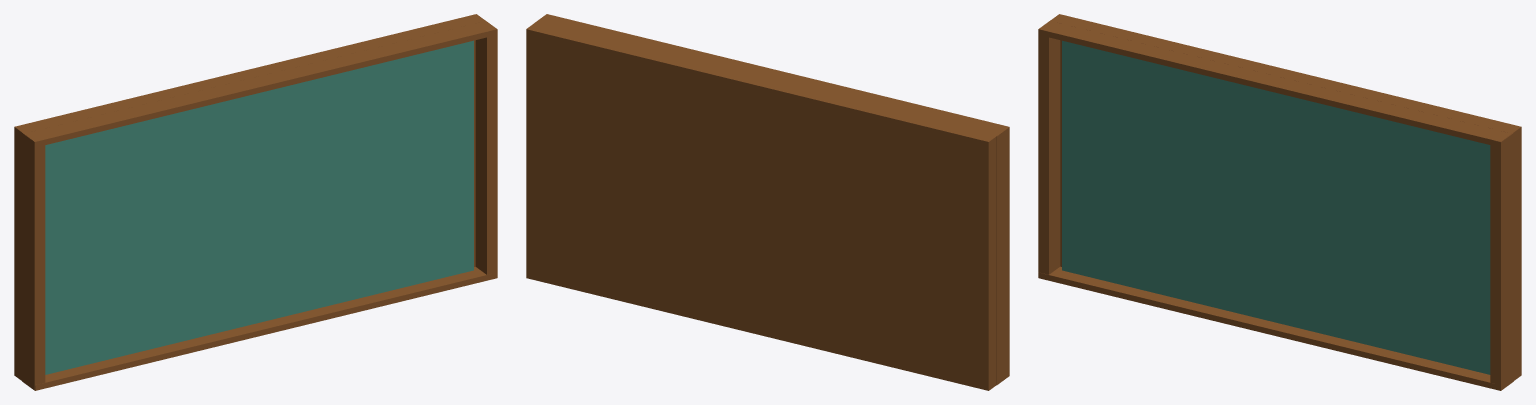
The model's file is lemon.obj.
The picture shows the model from 3 angles, left to right: view 1: azimuth 30°, elevation 25°; view 2: azimuth 150°, elevation 25°; view 3: azimuth 330°, elevation 25°; orthographic projection.
Visible parts, largest first — view 1: polySurface24; view 2: polySurface24; view 3: polySurface24.
Boxes of the visible parts, x1=… form: polySurface24: x1=14, y1=14, x2=497, y2=390; polySurface24: x1=526, y1=14, x2=1009, y2=390; polySurface24: x1=1038, y1=14, x2=1521, y2=390.
Bounding box in the file's own units: 0.4338 × 0.223 × 0.0339.
2 materials, 2 textured.
